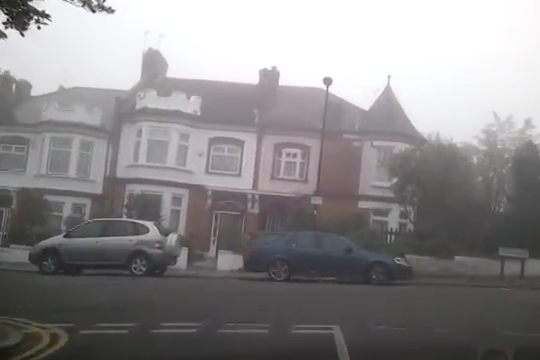car: (241, 228, 414, 287), (26, 218, 182, 278)
